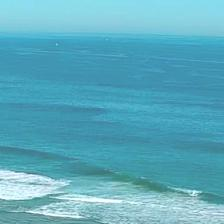surfer: (143, 175, 153, 178), (201, 183, 206, 185)
